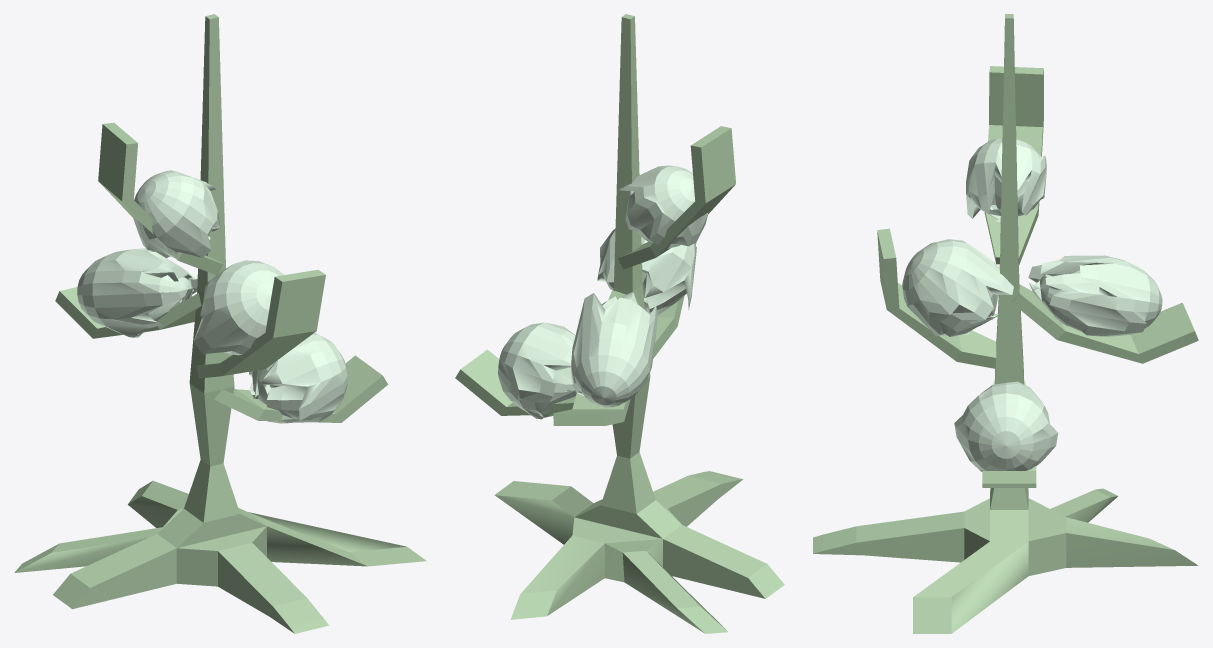
The model's file is planta de lechuga.gltf.
3 renders of one model, left to right at view 1: azimuth 30°, elevation 25°; view 2: azimuth 150°, elevation 25°; view 3: azimuth 270°, elevation 25°, orthographic.
Parts seen in each view (by area): view 1: Cubo (×5), Esfera (×4); view 2: Cubo (×5), Esfera (×4); view 3: Cubo (×5), Esfera (×4).
Part boxes in pixels (x1,y1,x2,y2): Cubo (×5): (14,14,426,633); Esfera (×4): (77,170,347,423); Cubo (×5): (455,14,784,633); Esfera (×4): (498,165,708,419); Cubo (×5): (813,14,1198,633); Esfera (×4): (902,138,1162,471).
Bounding box in the file's own units: 1.16 × 1.95 × 1.25.
